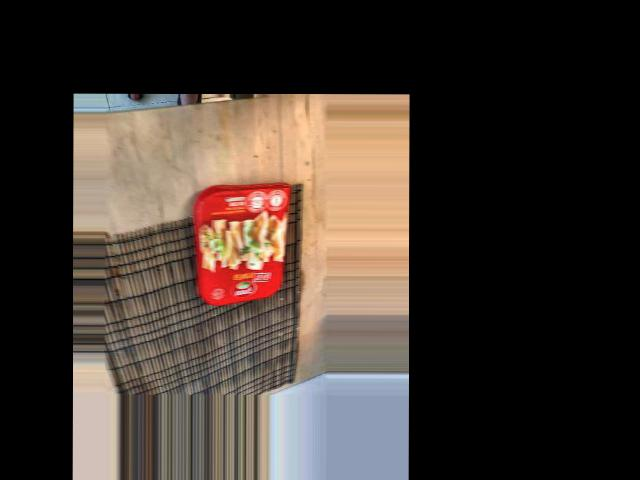cheese: (108, 210, 240, 300)
